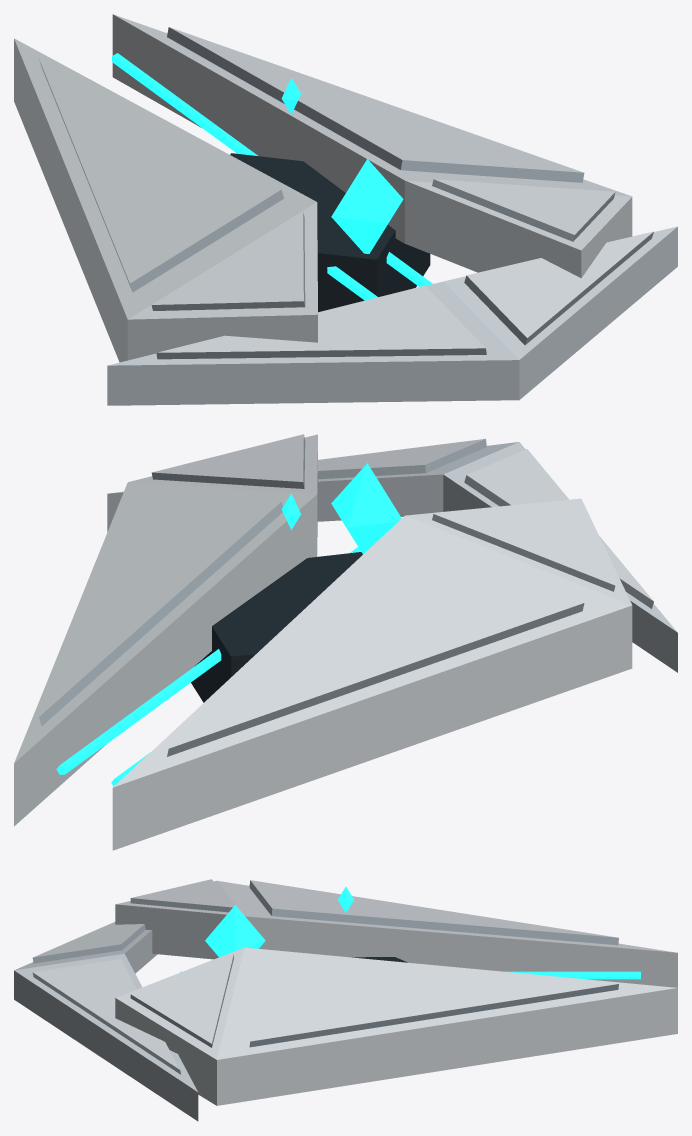
Rendered from 06_artillerieplattform.glb.
The picture shows the model from 3 angles, top to bottom: view 1: azimuth 30°, elevation 25°; view 2: azimuth 150°, elevation 25°; view 3: azimuth 270°, elevation 25°; orthographic projection. The views are drawn at different scales.
Parts seen in each view (by area): view 1: Hull; view 2: Hull; view 3: Hull.
Boxes of the visible parts, bbox=[...] form: Hull: bbox=[14, 14, 677, 405]; Hull: bbox=[14, 434, 677, 850]; Hull: bbox=[14, 879, 677, 1121].
Size of the model in its own units: 10.11 by 3.54 by 14.
